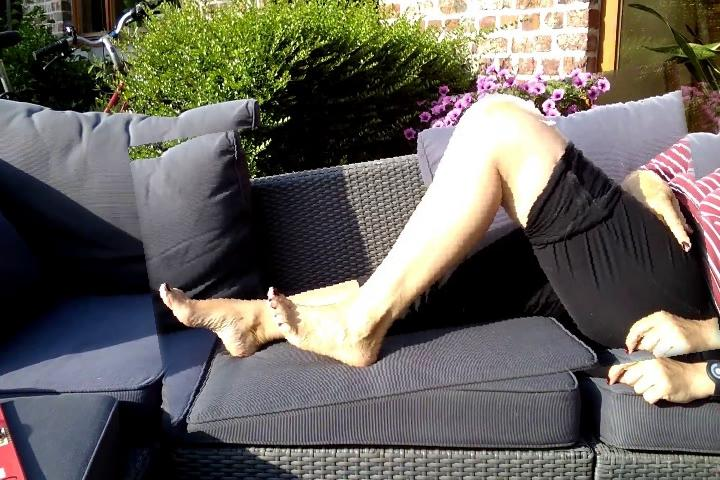lowerbody: (138, 82, 714, 416)
